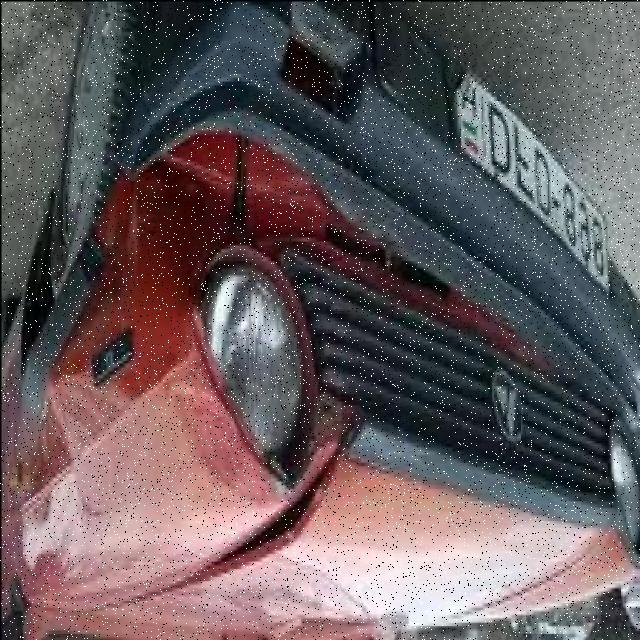damage: (94, 125, 340, 294), (138, 423, 358, 609)
